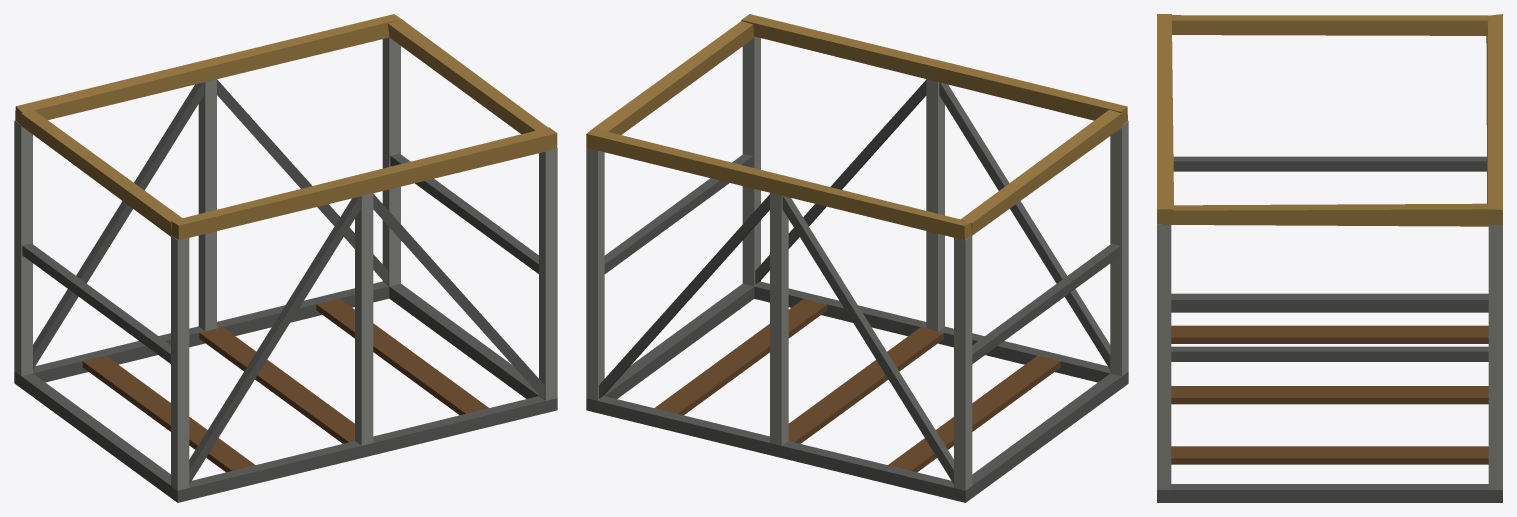
Rendered from cargo_light_frame.glb.
The picture shows the model from 3 angles, left to right: view 1: azimuth 30°, elevation 25°; view 2: azimuth 150°, elevation 25°; view 3: azimuth 270°, elevation 25°; orthographic projection. The views are drawn at different scales.
Parts seen in each view (by area): view 1: cargo_light_frame; view 2: cargo_light_frame; view 3: cargo_light_frame.
Boxes of the visible parts, x1=… form: cargo_light_frame: x1=14, y1=14, x2=557, y2=502; cargo_light_frame: x1=586, y1=14, x2=1128, y2=502; cargo_light_frame: x1=1157, y1=14, x2=1502, y2=502.
Size of the model in its own units: 1.3 by 0.907 by 0.968.
